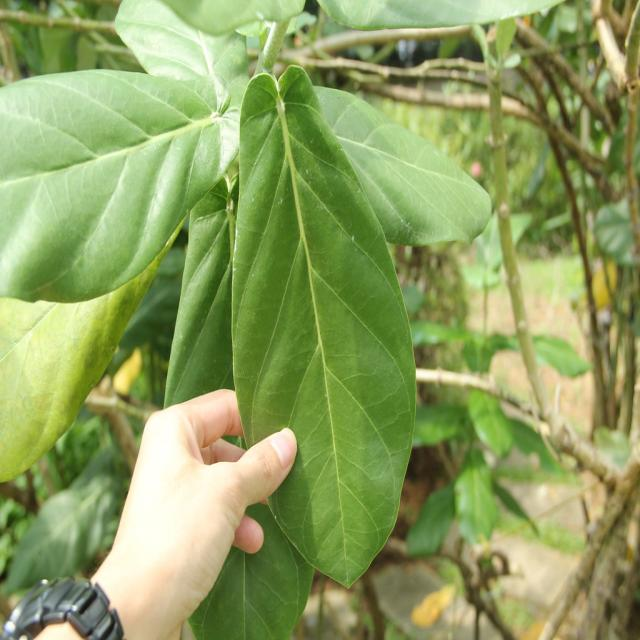Poisonous-Calatropis: (208, 55, 412, 379), (0, 62, 242, 304)
